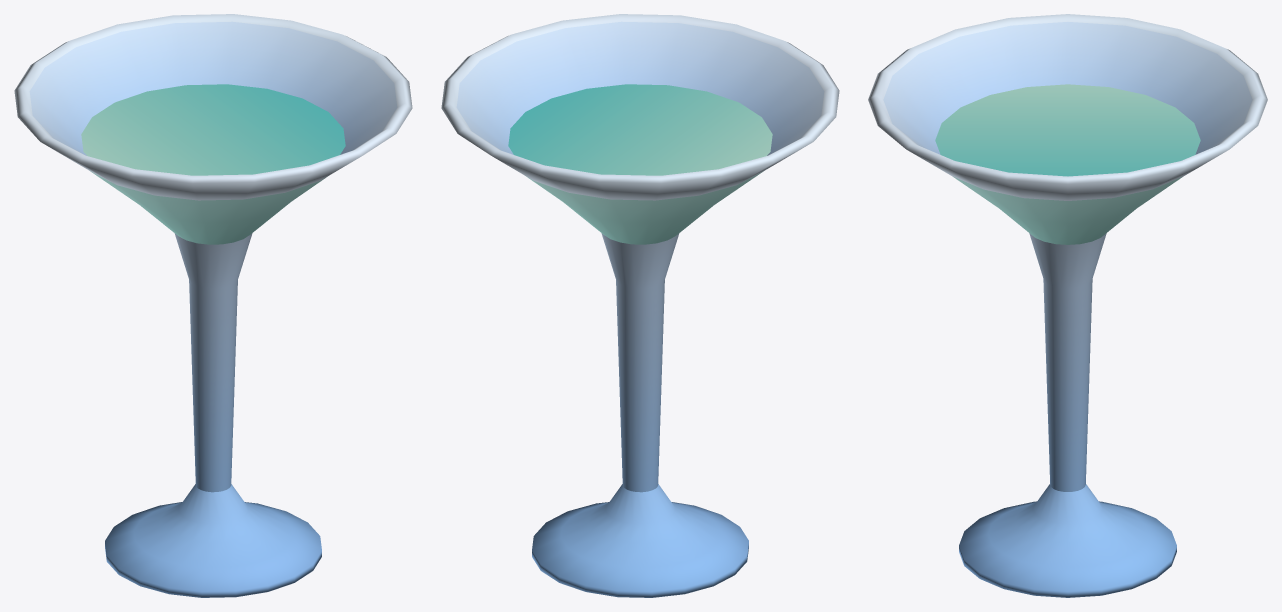
Rendered from cocktail_007.fbx.
3 views of the same model, side by side, from view 1: azimuth 30°, elevation 25°; view 2: azimuth 150°, elevation 25°; view 3: azimuth 270°, elevation 25° (orthographic).
Visible parts, largest first — view 1: cocktail_007; view 2: cocktail_007; view 3: cocktail_007.
Boxes of the visible parts, x1=… form: cocktail_007: x1=14, y1=14, x2=412, y2=597; cocktail_007: x1=441, y1=14, x2=839, y2=597; cocktail_007: x1=868, y1=14, x2=1267, y2=597.
Bounding box in the file's own units: 11.19 × 11.19 × 14.1.
